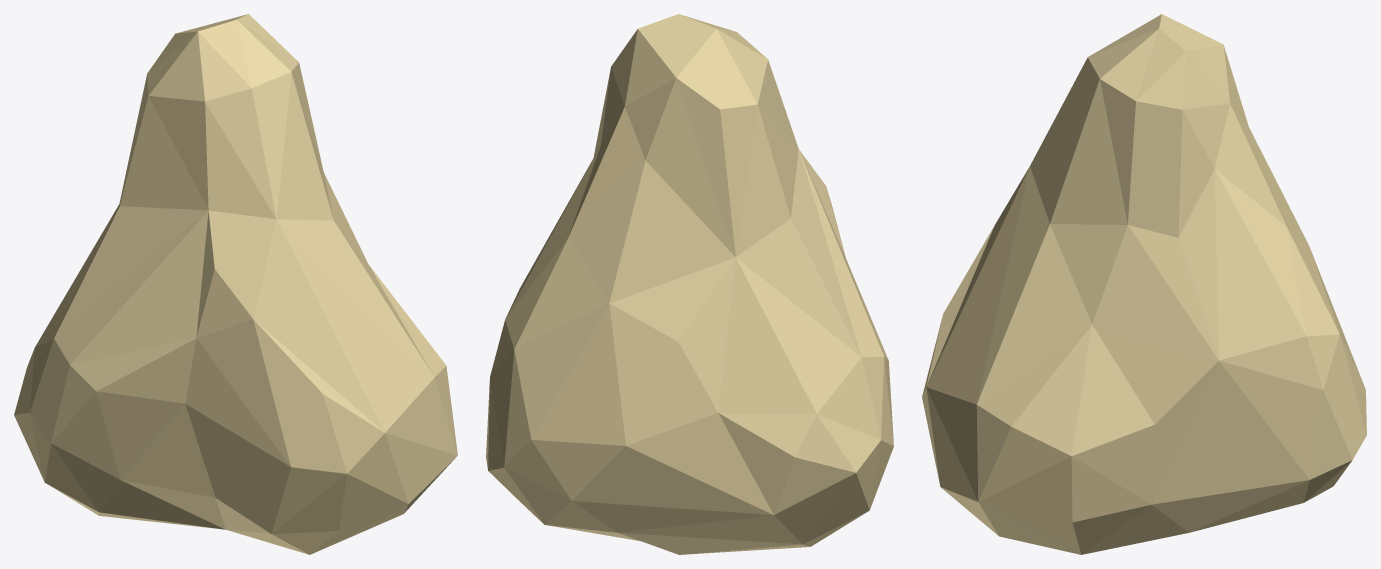
Rendered from Rock (77).fbx.
The picture shows the model from 3 angles, left to right: view 1: azimuth 30°, elevation 25°; view 2: azimuth 150°, elevation 25°; view 3: azimuth 270°, elevation 25°; orthographic projection. The views are drawn at different scales.
Parts seen in each view (by area): view 1: Asteroid76; view 2: Asteroid76; view 3: Asteroid76.
Boxes of the visible parts, x1,y1,x2,y2 form: Asteroid76: [14, 14, 457, 554]; Asteroid76: [486, 14, 893, 554]; Asteroid76: [922, 14, 1366, 554].
Bounding box in the file's own units: 30.07 × 40.44 × 32.46.
